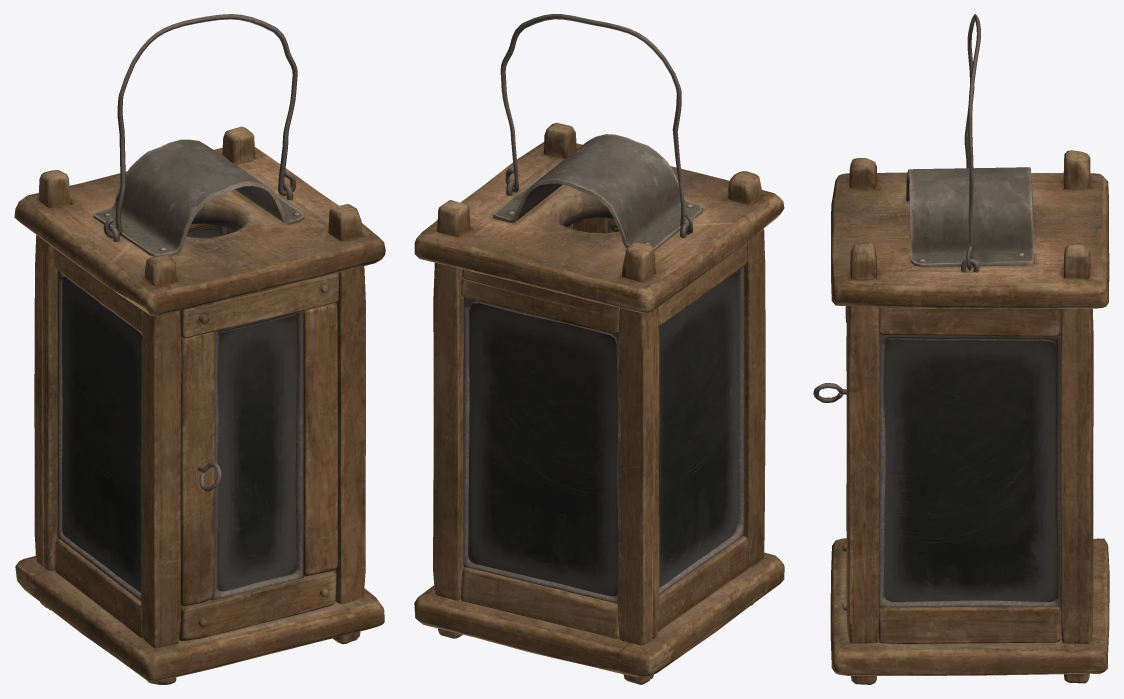
The model's file is wooden_lantern_01.glb.
3 renders of one model, left to right at view 1: azimuth 30°, elevation 25°; view 2: azimuth 150°, elevation 25°; view 3: azimuth 270°, elevation 25°, orthographic.
Visible parts, largest first — view 1: wooden_lantern_01; view 2: wooden_lantern_01; view 3: wooden_lantern_01.
Boxes of the visible parts, <box> form: wooden_lantern_01: <box>14,14,385,684</box>; wooden_lantern_01: <box>414,14,784,684</box>; wooden_lantern_01: <box>813,14,1109,684</box>.
Bounding box in the file's own units: 0.221 × 0.5301 × 0.2347.
Materials: 2 (2 with a texture image).
